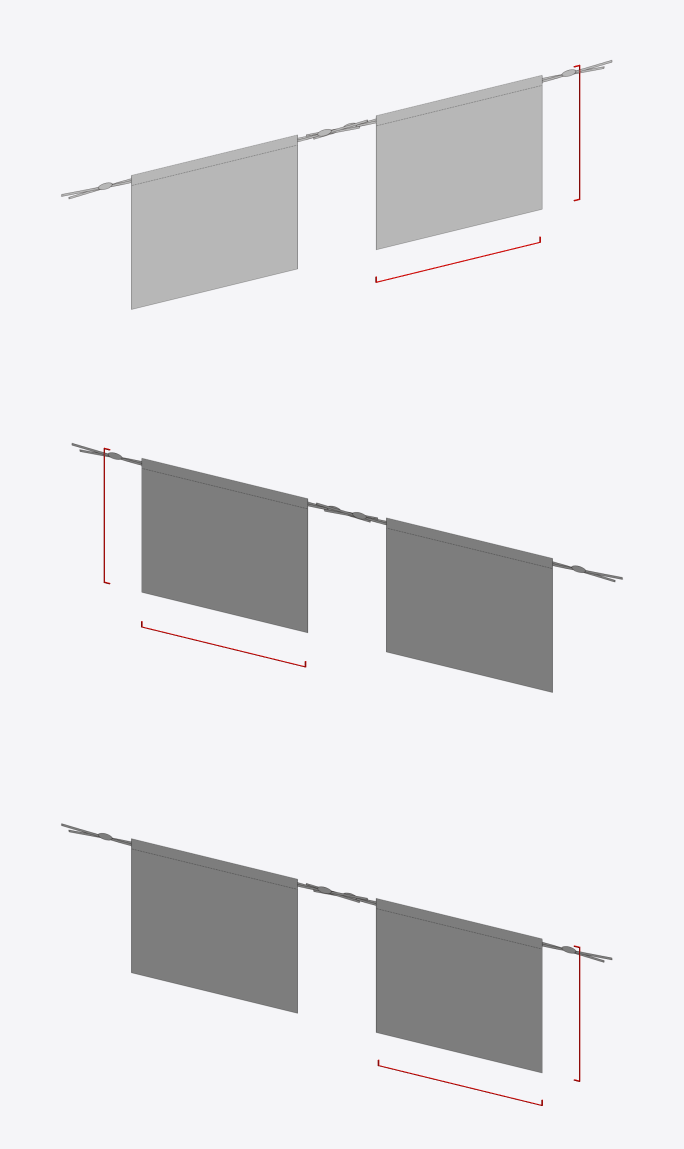
Rendered from 帆布袋-束口.glb.
3 renders of one model, top to bottom at view 1: azimuth 30°, elevation 25°; view 2: azimuth 150°, elevation 25°; view 3: azimuth 330°, elevation 25°, orthographic.
Parts seen in each view (by area): view 1: bag; view 2: bag; view 3: bag.
Boxes of the visible parts, x1,y1,x2,y2 form: bag: [61, 60, 612, 309]; bag: [71, 443, 622, 692]; bag: [61, 823, 612, 1072].
Size of the model in its own units: 1.19 by 0.3416 by 0.00545.
Materials: 2 (1 with a texture image).
